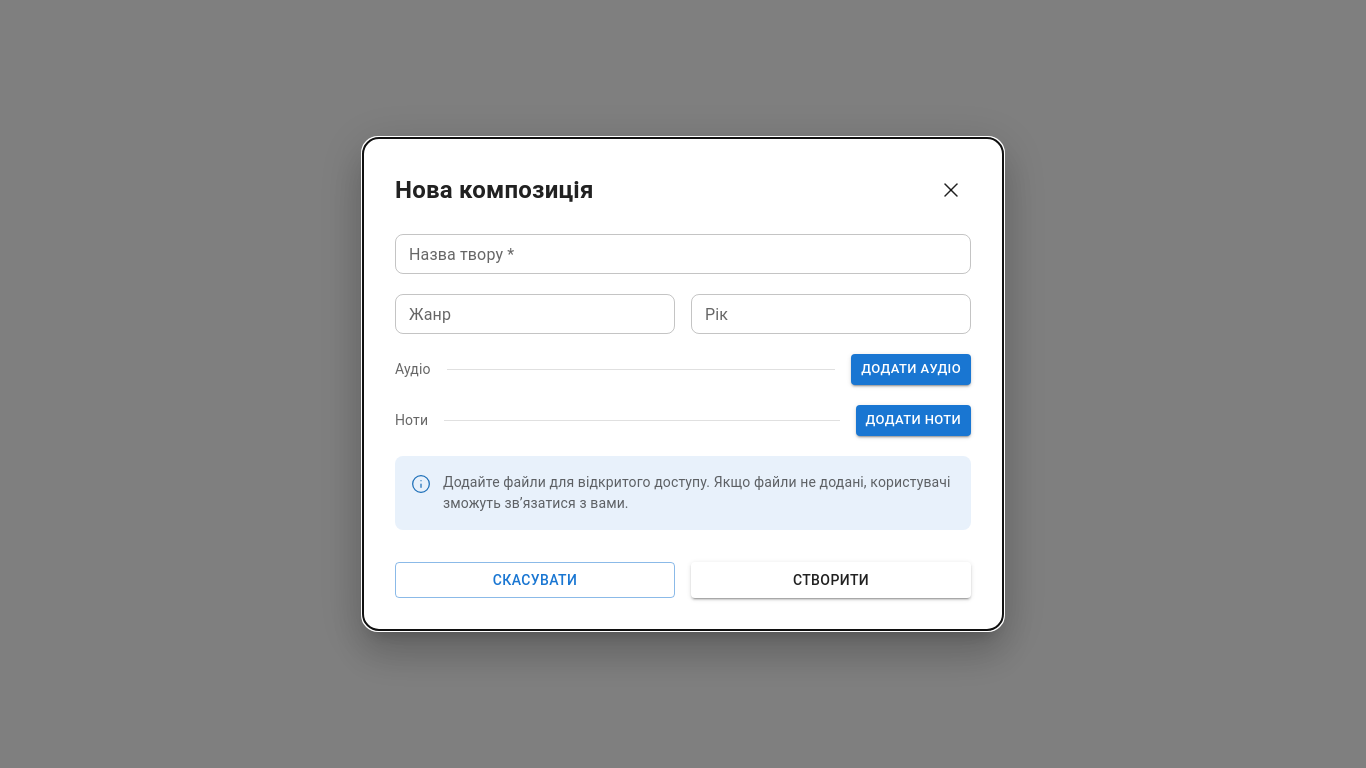
Scenario: CompositionModal › adds a notes row with a name field
The width and height of the screenshot is (1366, 768).
Click the button "Додати ноти". click: (913, 420)
box: [856,405,971,436]
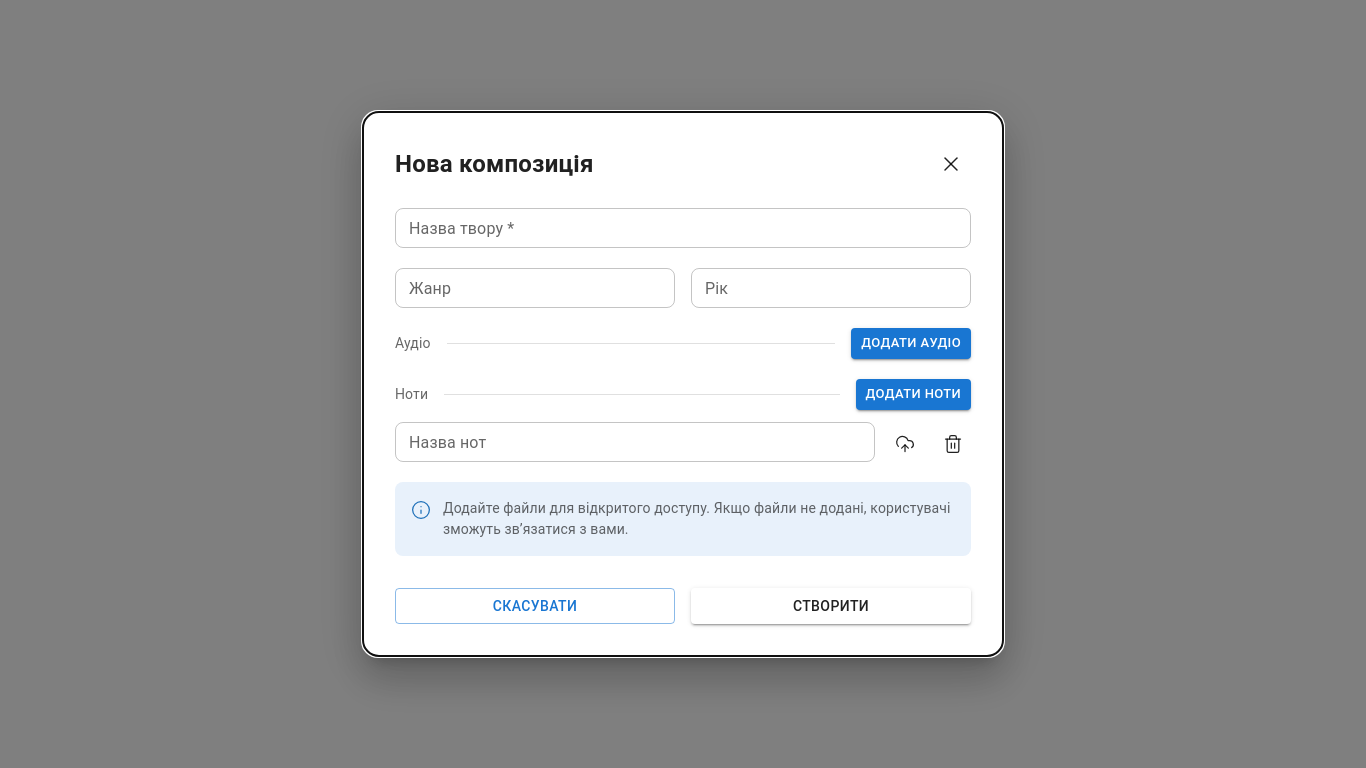
Now the field labelled "Назва нот" is shown, box [395,422,875,462]
